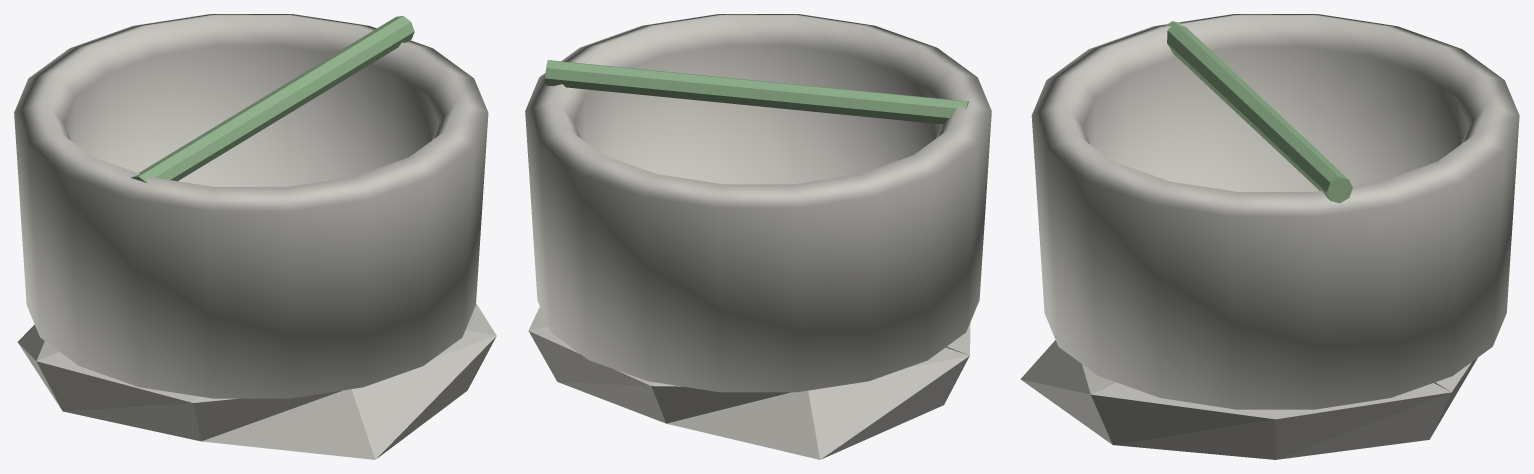
Rendered from basin.glb.
3 views of the same model, side by side, from view 1: azimuth 30°, elevation 25°; view 2: azimuth 150°, elevation 25°; view 3: azimuth 270°, elevation 25° (orthographic). The views are drawn at different scales.
Visible parts, largest first — view 1: stone-water-basin; view 2: stone-water-basin; view 3: stone-water-basin.
Boxes of the visible parts, box(x1,y1,x2,y2) form: stone-water-basin: box(14, 14, 496, 459); stone-water-basin: box(525, 14, 991, 459); stone-water-basin: box(1020, 14, 1519, 459).
Bounding box in the file's own units: 0.7718 × 0.5588 × 0.7776.
